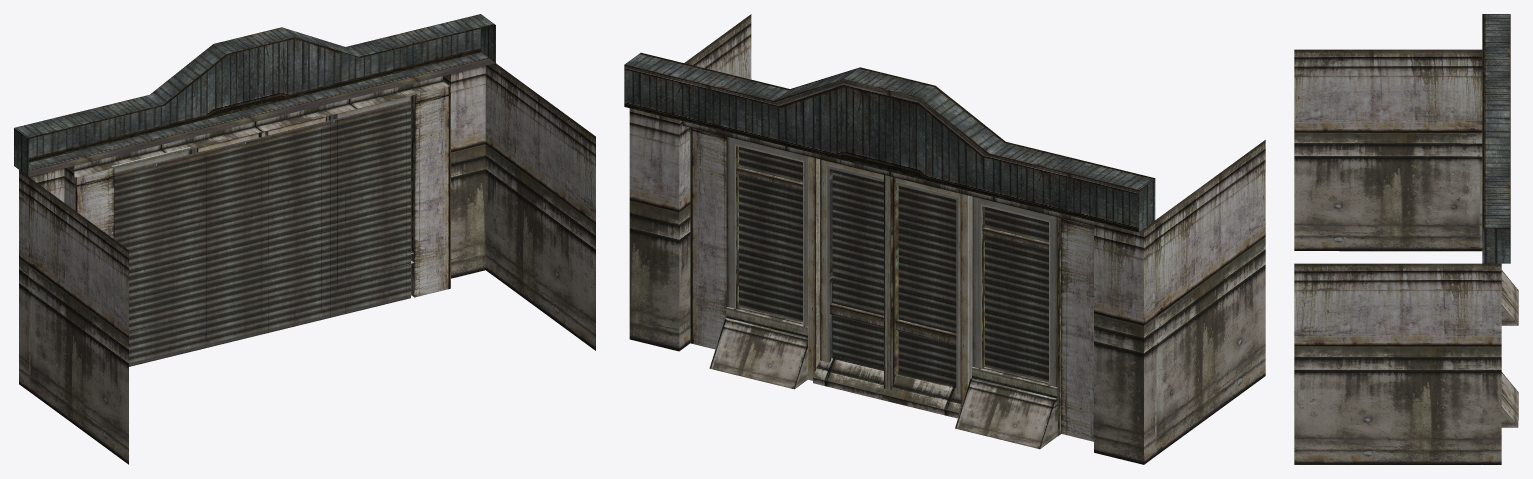
The model's file is Store_front_19.fbx.
3 renders of one model, left to right at view 1: azimuth 30°, elevation 25°; view 2: azimuth 150°, elevation 25°; view 3: azimuth 270°, elevation 25°, orthographic. The views are drawn at different scales.
Visible parts, largest first — view 1: Store_front_19; view 2: Store_front_19; view 3: Store_front_19.
Boxes of the visible parts, x1,y1,x2,y2 form: Store_front_19: (14,14,595,464); Store_front_19: (624,14,1265,464); Store_front_19: (1294,14,1518,464).
Size of the model in its own units: 700 by 413 by 310.
